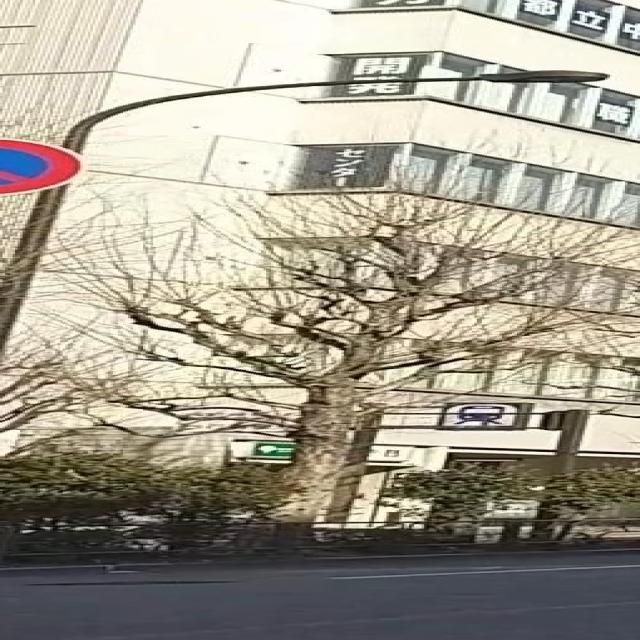maple: (0, 121, 640, 552)
